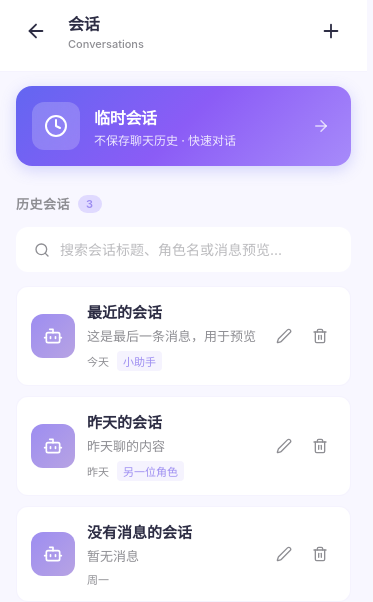
Scenario: ConversationListPage 列表与搜索 › 搜索按标题、角色名与消息预览过滤，并展示计数
The width and height of the screenshot is (373, 602).
Expected: the element with class "conversation-item" showing "最近的会话 这是最后一条消息，用于预览 今天 小助手" is shown, [16,286,351,386]
Type "昨天聊的" into the field with class "search-input".
click(196, 250); type("昨天聊的")  # box [60,241,333,258]
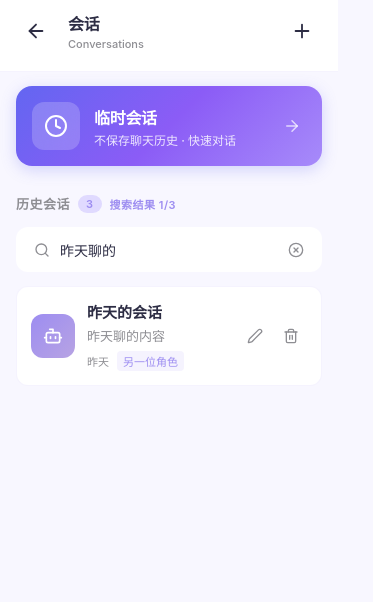
Expected: the text with class "search-result-count" reads "搜索结果 1/3", [110,198,176,212]
Note: 角色名命中的也要出现
Replace the text in the field with class "search-input" with "小助手" at x=169, y=250, box [60,241,278,258]
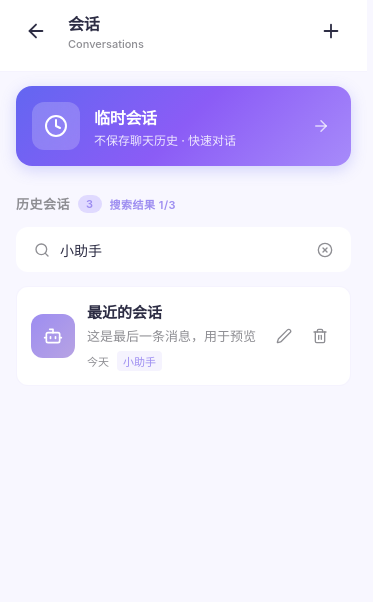
Note: 无匹配：给出空结果提示
Replace the text in the field with class "search-input" with "根本不存在的关键词" at x=184, y=250, box [60,241,307,258]
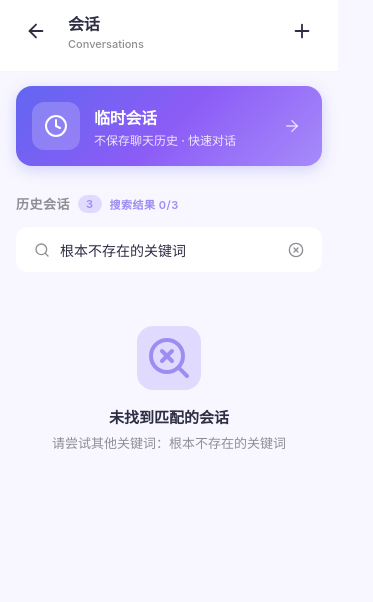
Expected: the text "未找到匹配的会话" is shown, [109,406,229,427]
Expected: the text "请尝试其他关键词：根本不存在的关键词" is shown, [52,433,286,452]
Note: 点清空图标恢复全部
Click the icon with class "clear-icon".
click(296, 250)  # box [288,242,304,258]
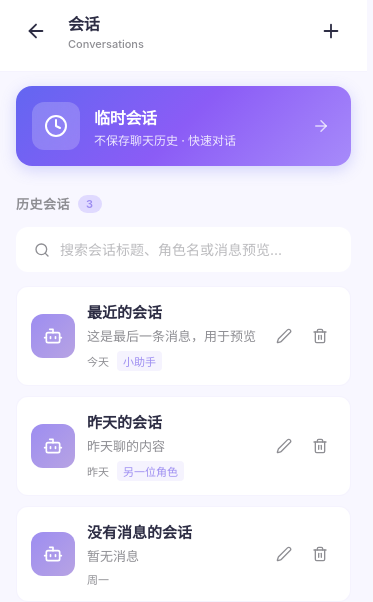
Expected: the text with class "search-result-count" is gone
Expected: the field with class "search-input" is empty, [60,241,333,258]
